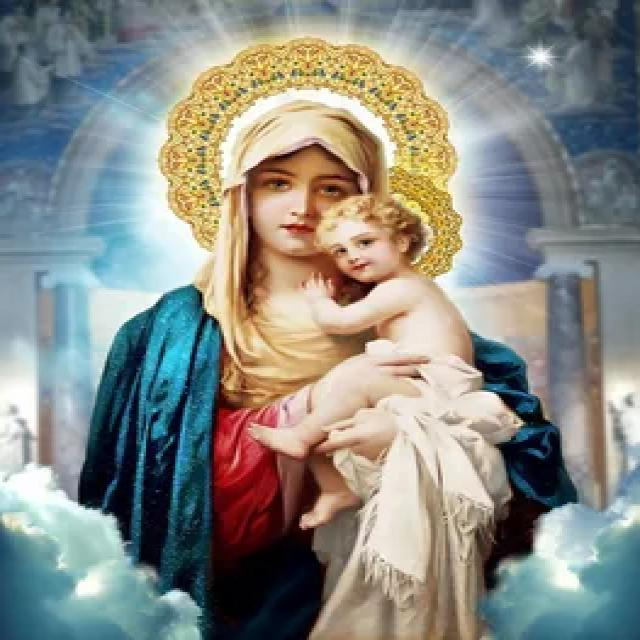mother of god: (80, 89, 577, 640)
